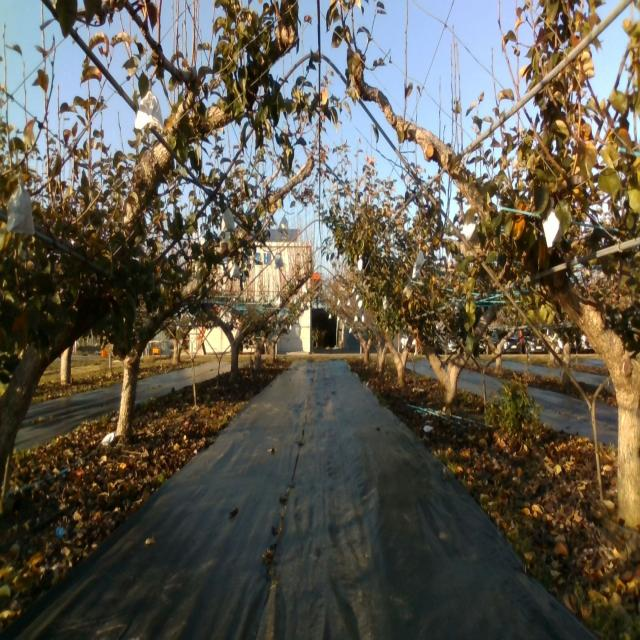pearbags: (6, 176, 35, 233), (133, 87, 163, 136), (542, 205, 562, 251), (462, 215, 478, 242), (220, 207, 236, 234), (276, 217, 288, 240), (416, 250, 426, 272)
